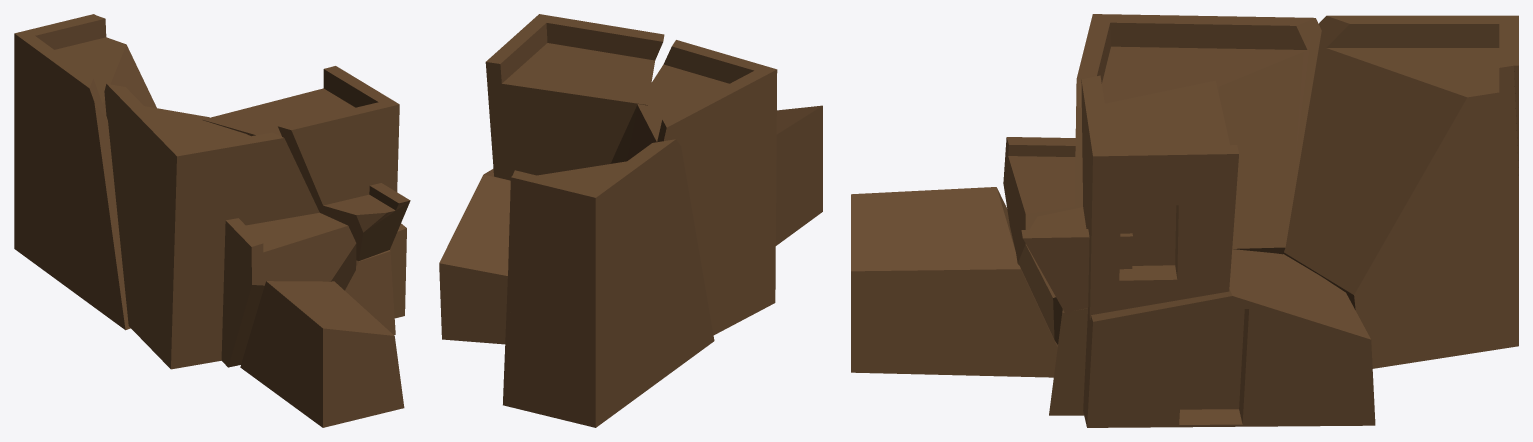
File: SM_house_debris.fbx
The picture shows the model from 3 angles, left to right: view 1: azimuth 30°, elevation 25°; view 2: azimuth 150°, elevation 25°; view 3: azimuth 270°, elevation 25°; orthographic projection. The views are drawn at different scales.
Visible parts, largest first — view 1: house_debris; view 2: house_debris; view 3: house_debris.
Boxes of the visible parts, bbox=[...] form: house_debris: bbox=[14, 14, 410, 427]; house_debris: bbox=[439, 14, 822, 427]; house_debris: bbox=[851, 14, 1518, 427].
Bounding box in the file's own units: 447 × 418 × 869.
